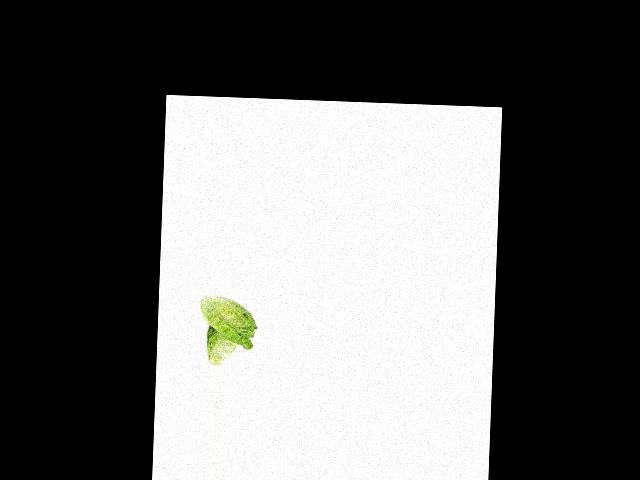lettuce: (202, 325, 239, 367)
